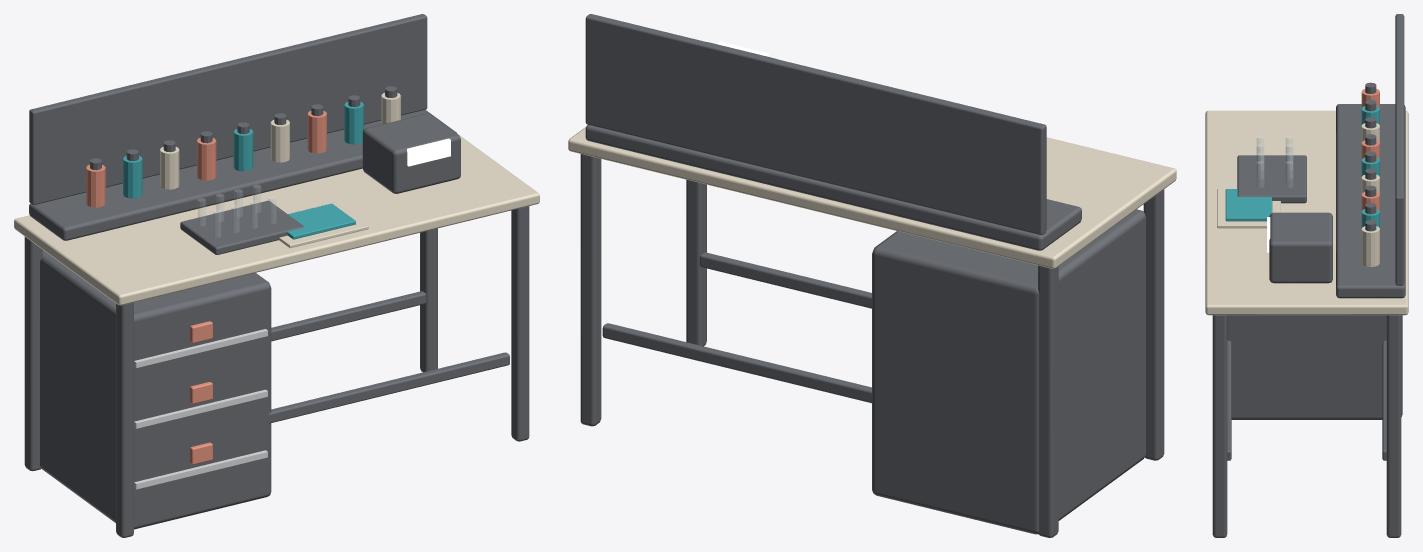
File: public-aquarium-and-marine-centre-water-test-bench-b9044121__34179.glb
The picture shows the model from 3 angles, left to right: view 1: azimuth 30°, elevation 25°; view 2: azimuth 150°, elevation 25°; view 3: azimuth 270°, elevation 25°; orthographic projection. The views are drawn at different scales.
Visible parts, largest first — view 1: water-test-bench; view 2: water-test-bench; view 3: water-test-bench.
Boxes of the visible parts, bbox=[...] form: water-test-bench: bbox=[14, 14, 539, 537]; water-test-bench: bbox=[568, 14, 1176, 537]; water-test-bench: bbox=[1205, 14, 1408, 537].
Bounding box in the file's own units: 1.6 × 1.29 × 0.7001.
